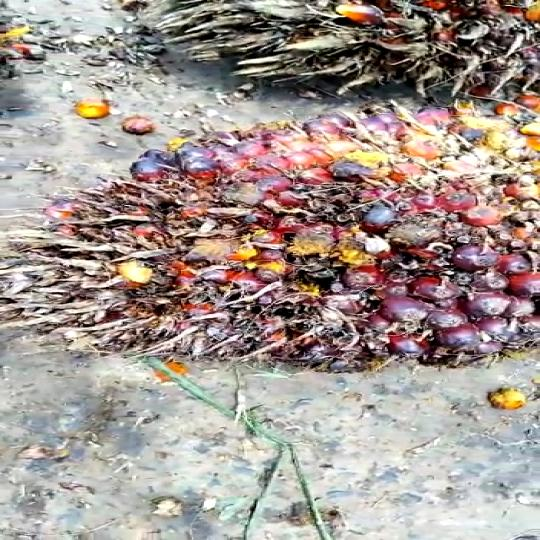masak: (25, 103, 540, 381)
